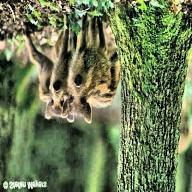boar: (63, 13, 132, 133), (40, 33, 73, 137)
